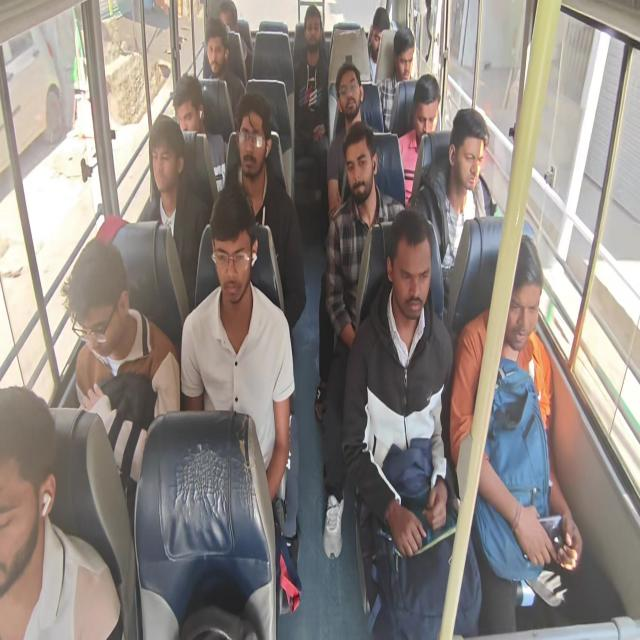person: (341, 208, 482, 638), (449, 233, 583, 633), (320, 120, 406, 559), (180, 183, 295, 506), (60, 237, 180, 525), (0, 385, 123, 639), (223, 92, 306, 334), (137, 114, 210, 311), (409, 107, 489, 282), (293, 4, 330, 232), (326, 62, 368, 223), (172, 74, 228, 193), (397, 73, 441, 206), (202, 17, 245, 117), (377, 26, 415, 131), (217, 0, 252, 81), (367, 6, 390, 83)
